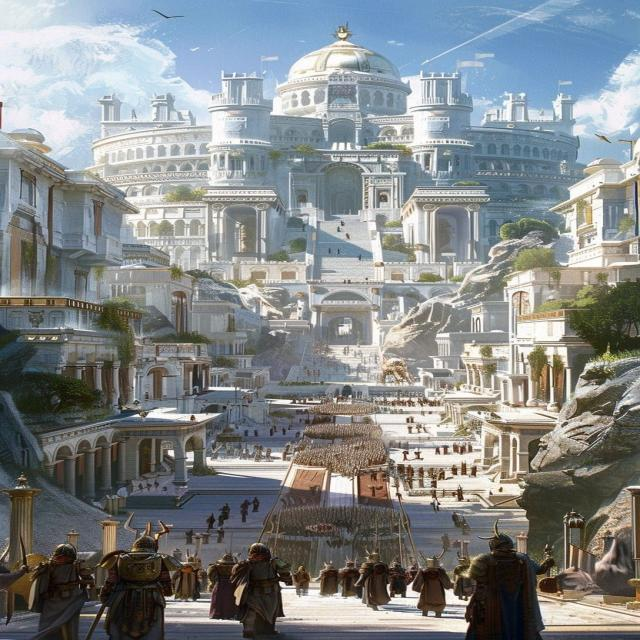castle: (49, 45, 566, 377)
